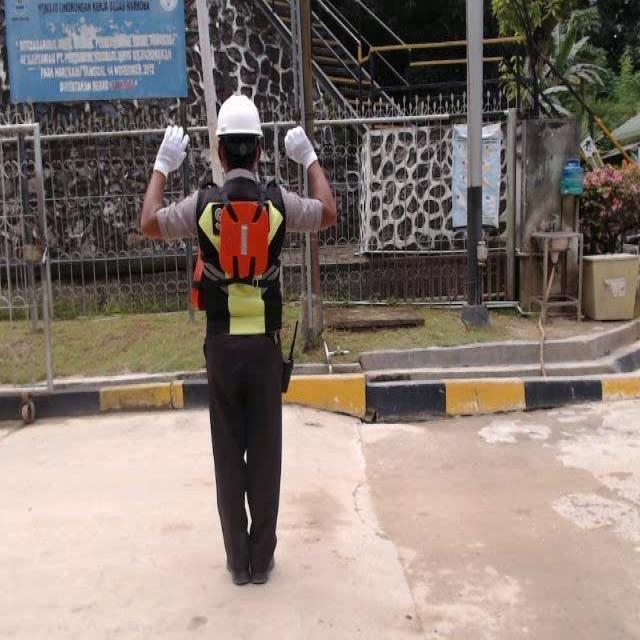Vest: (218, 192, 273, 287)
